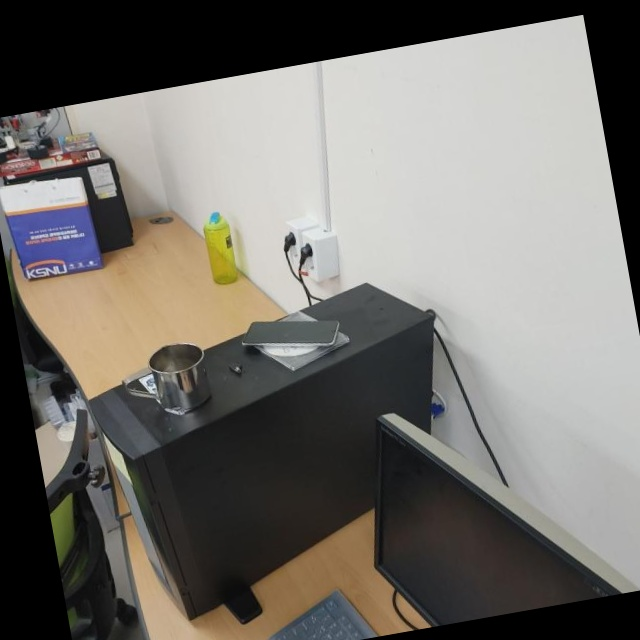cup: (115, 336, 216, 422)
phone: (239, 305, 345, 361)
